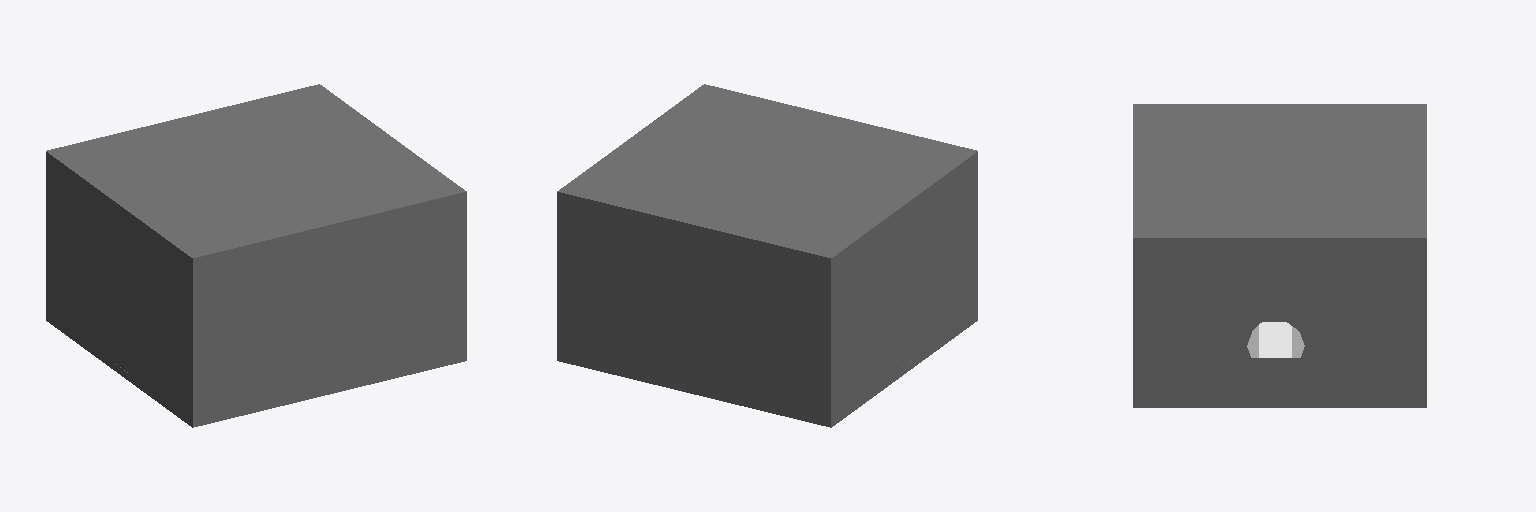
File: Library.obj
The picture shows the model from 3 angles: view 1: azimuth 30°, elevation 25°; view 2: azimuth 150°, elevation 25°; view 3: azimuth 270°, elevation 25°; orthographic projection.
Parts seen in each view (by area): view 1: Library; view 2: Library; view 3: Library.
Boxes of the visible parts, x1=… form: Library: x1=46, y1=84, x2=466, y2=427; Library: x1=557, y1=84, x2=977, y2=427; Library: x1=1133, y1=104, x2=1426, y2=407.
Bounding box in the file's own units: 91.47 × 53.94 × 84.86.